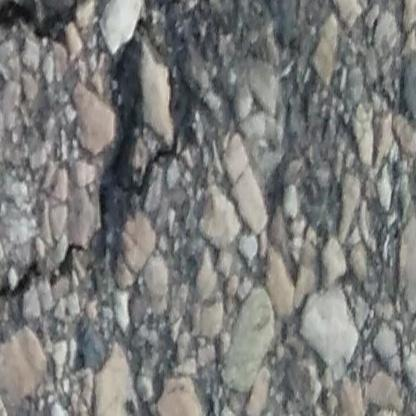Cracks: (0, 0, 246, 355)
